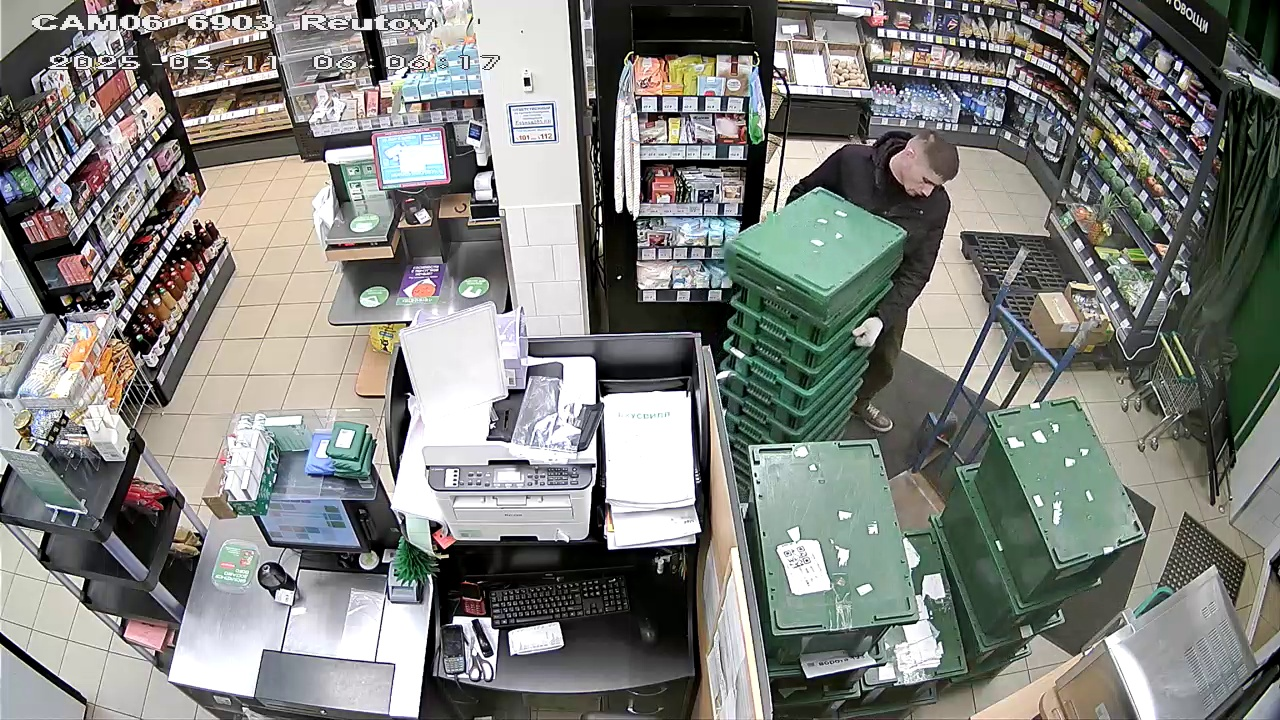Human: (782, 112, 955, 441)
pallet: (959, 226, 1142, 376)
